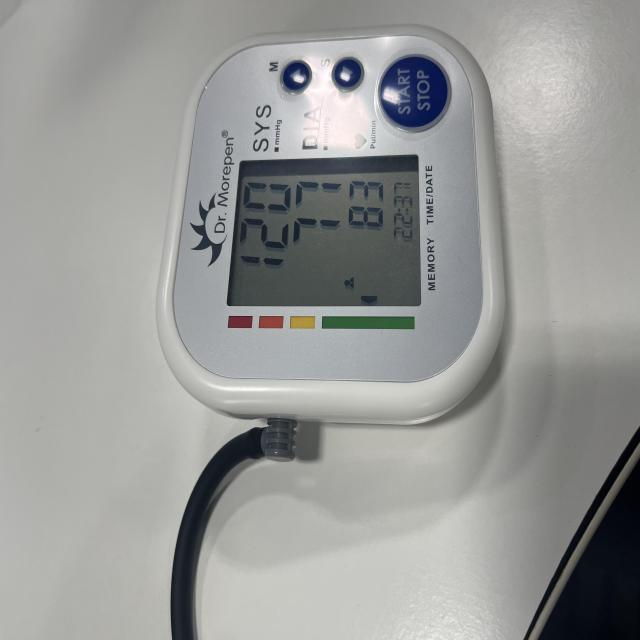bp: (157, 28, 499, 427)
